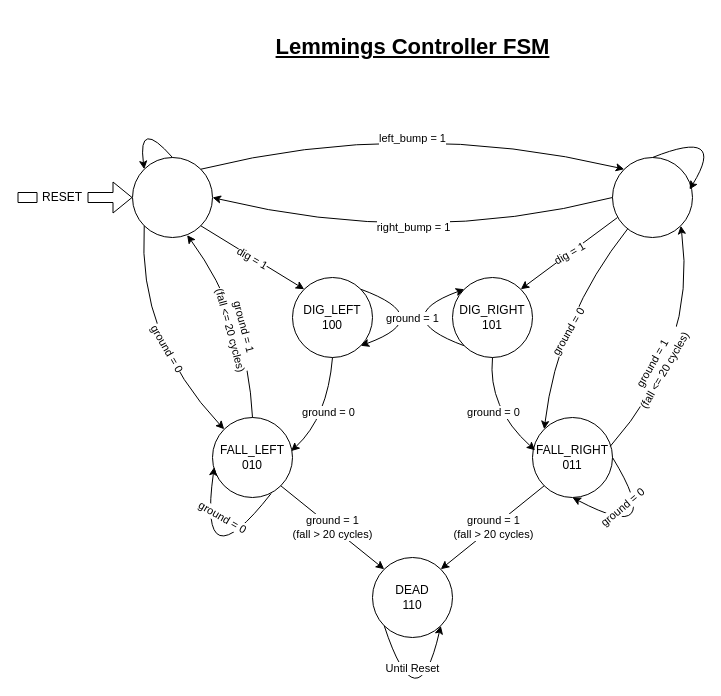
Image size: 721x696. Some labels were removed from this diagram. Here are the shapes that lost their labels. From the top down, the centre of each, then its label:
At pixel 172 197: "LEFT 000".
At pixel 652 197: "RIGHT 001".
